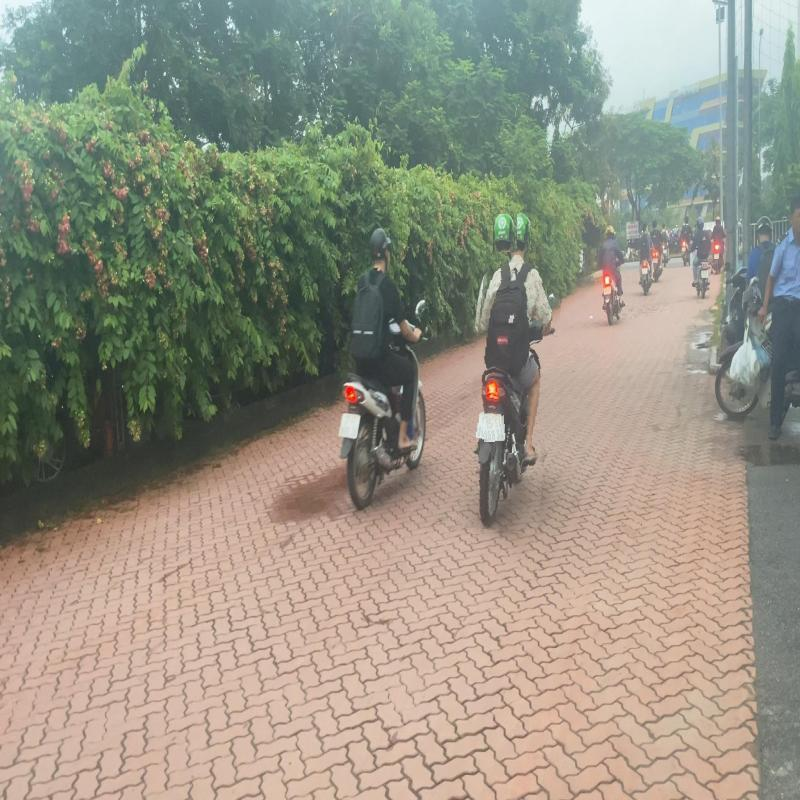helmet: (493, 214, 518, 252)
licenseplate: (483, 416, 506, 442)
motorcyclist: (466, 210, 562, 532)
